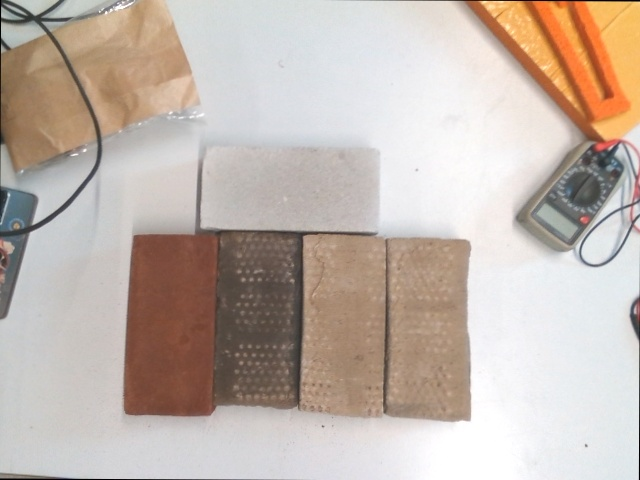brick: (386, 238, 470, 419), (300, 235, 383, 416), (202, 145, 377, 227), (131, 236, 211, 414), (219, 231, 294, 407)
